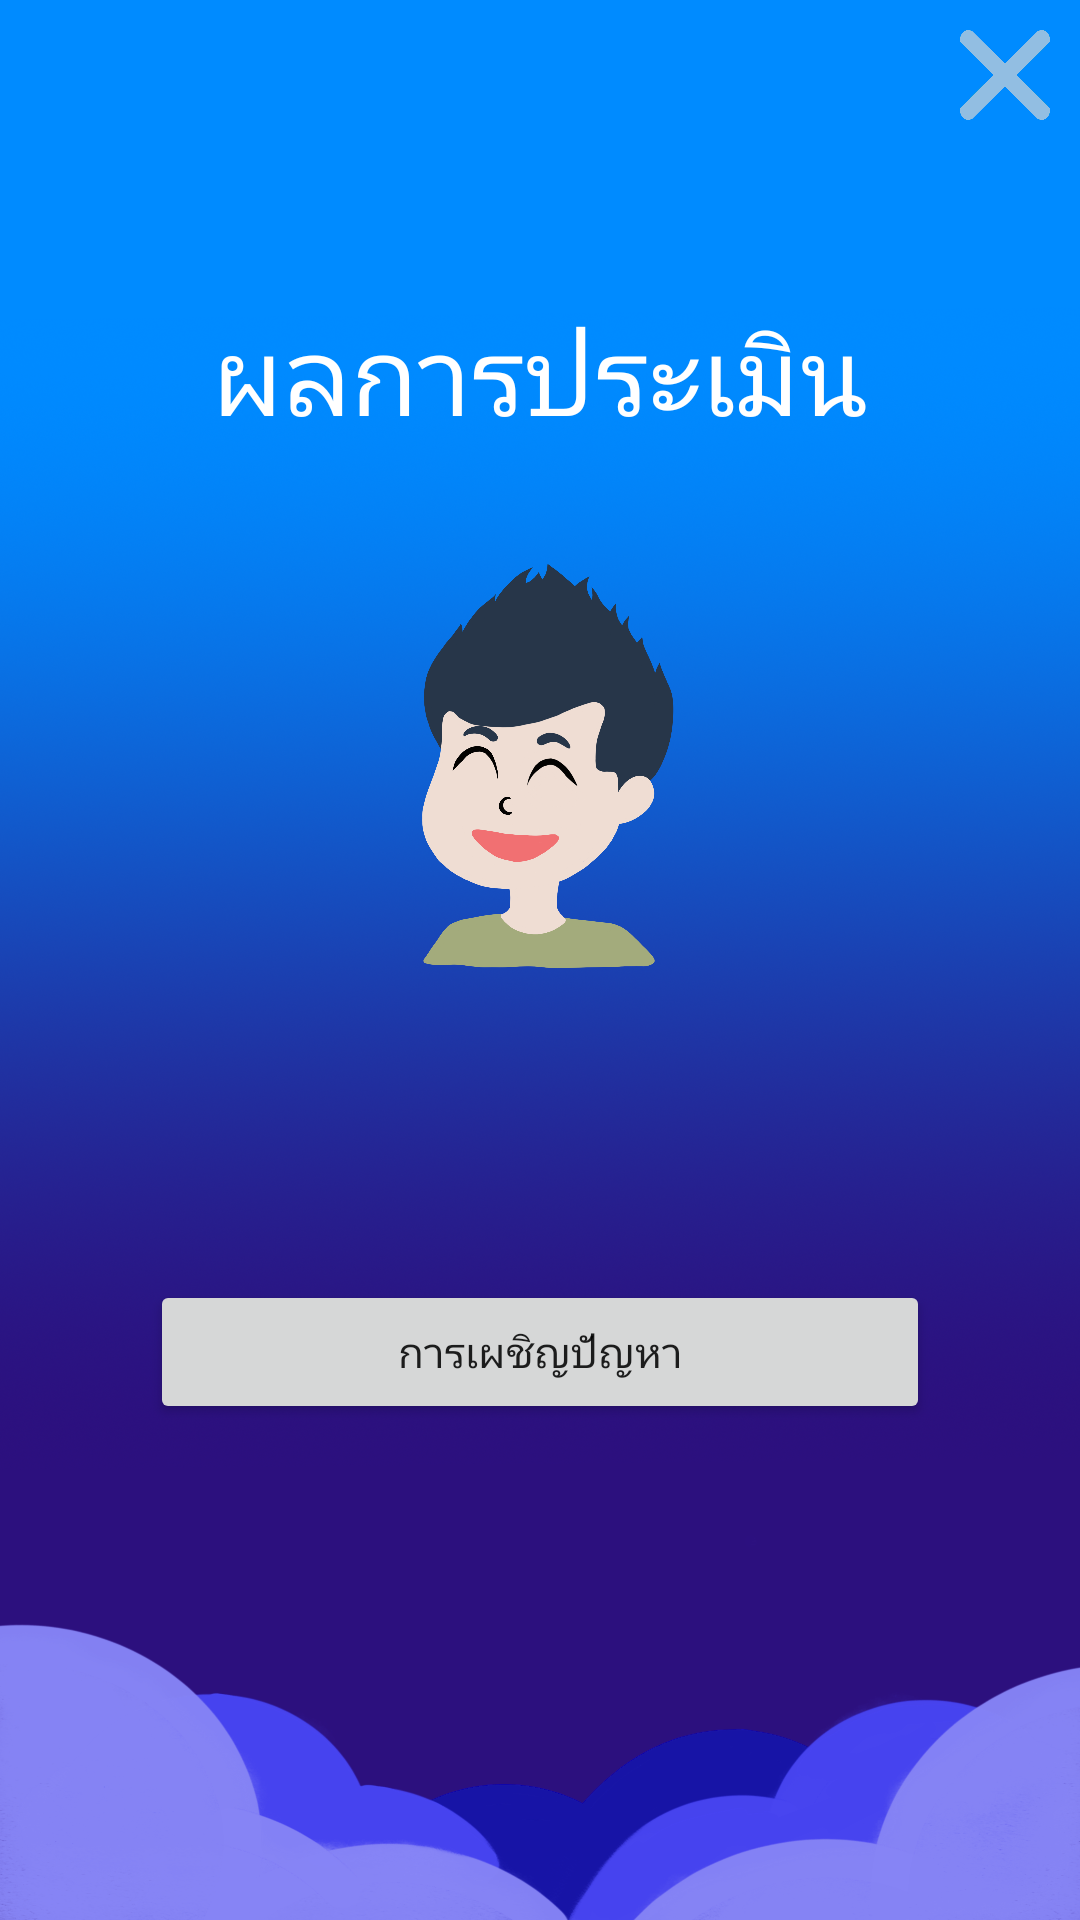

Where to tap for icons on this 1080 x 1920 app screen, as point (x, y):
exit: point (1005, 75)
